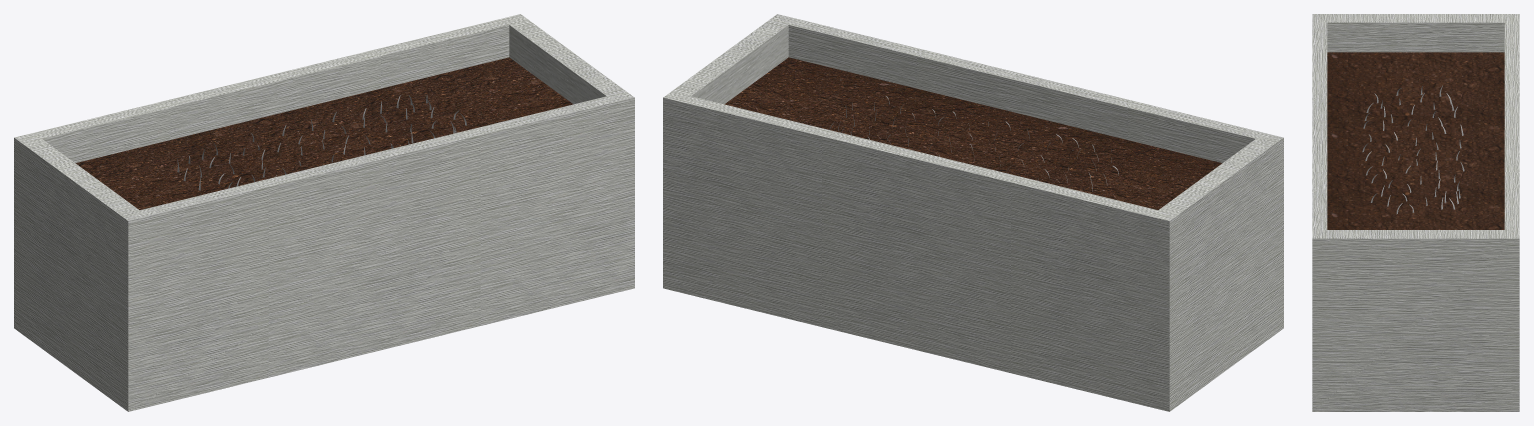
The model's file is Crop bed.fbx.
3 renders of one model, left to right at view 1: azimuth 30°, elevation 25°; view 2: azimuth 150°, elevation 25°; view 3: azimuth 270°, elevation 25°, orthographic. The views are drawn at different scales.
Parts seen in each view (by area): view 1: pCube1; view 2: pCube1; view 3: pCube1.
Boxes of the visible parts, box(x1,y1,x2,y2) form: pCube1: box(14, 14, 634, 411); pCube1: box(663, 14, 1283, 411); pCube1: box(1312, 14, 1519, 411).
Size of the model in its own units: 4.11 by 1.48 by 1.61.
3 materials, 2 textured.
